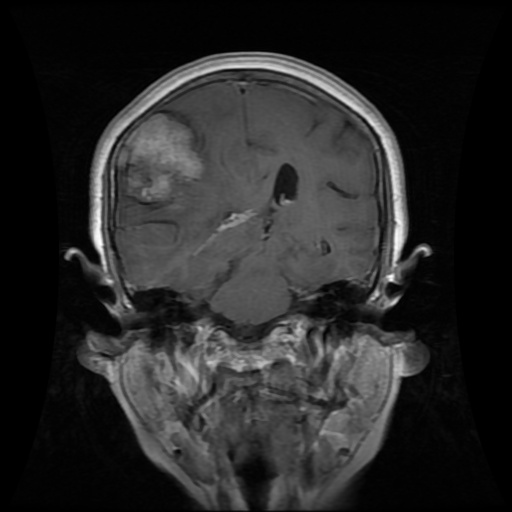meningioma: (115, 112, 204, 204)
